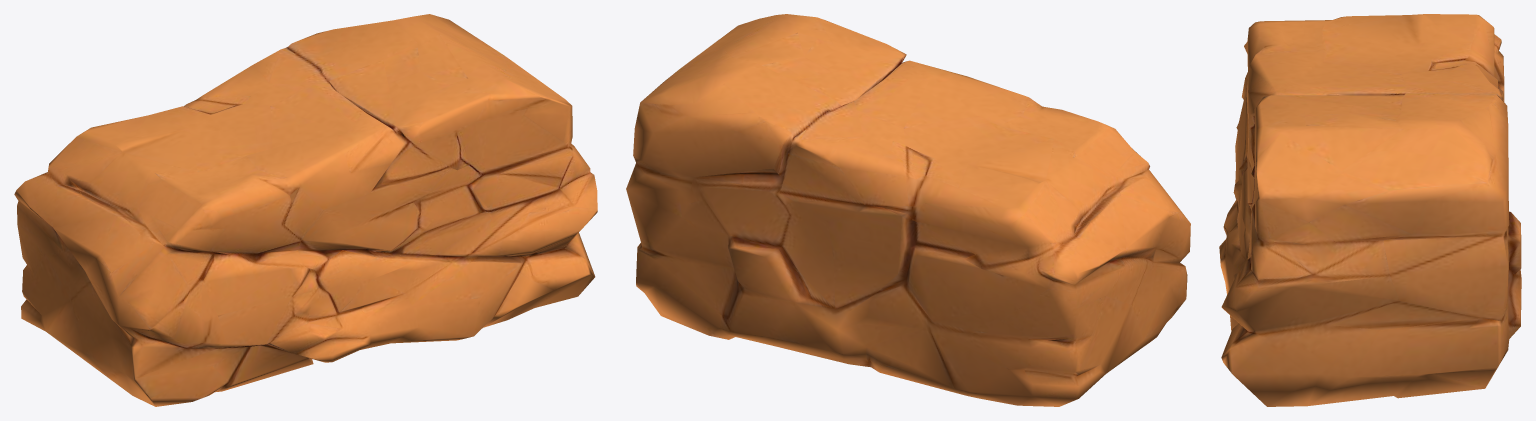
The model's file is rock-slab.lod.glb.
3 views of the same model, side by side, from view 1: azimuth 30°, elevation 25°; view 2: azimuth 150°, elevation 25°; view 3: azimuth 270°, elevation 25° (orthographic). The views are drawn at different scales.
Size of the model in its own units: 1.89 by 0.9185 by 1.01.
1 material, 1 textured.
